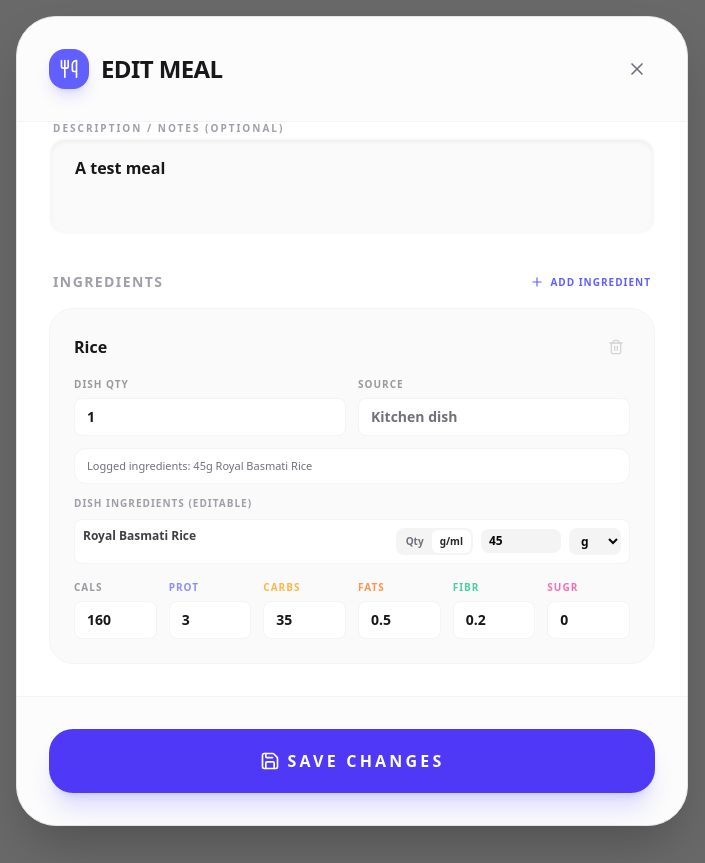
EditMealModal › supports dish ingredient editing and recalculates from kitchen item references
(page scrolled)
Expected: the text "Dish Ingredients (editable)" is shown, [74,496,252,510]
Click the button "Qty". click: (415,541)
box: [398,530,432,553]
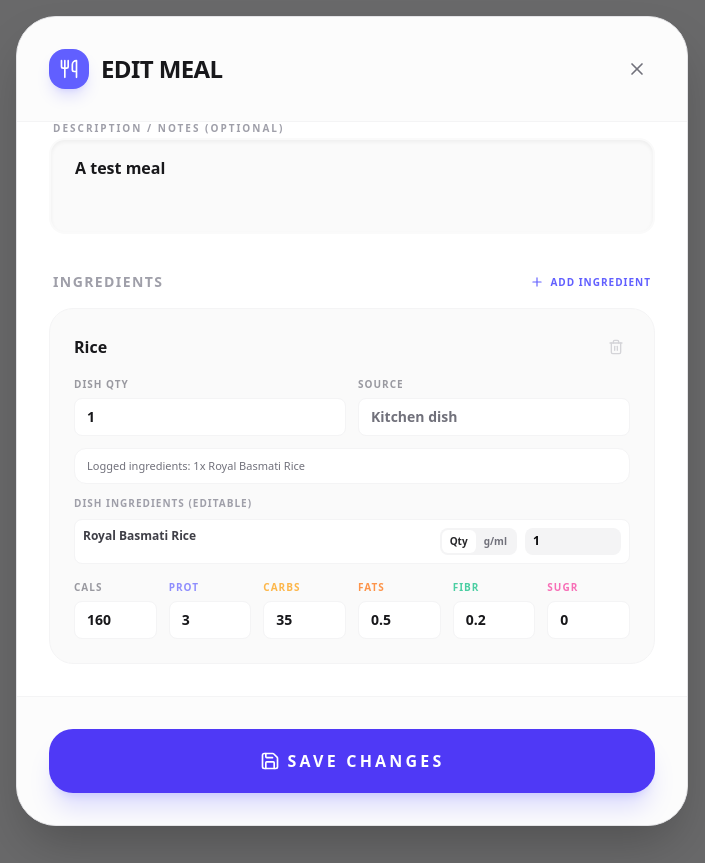
Replace the text in the number field below "Dish Qty" with "2". click: (210,417)
box: [74,398,346,436]
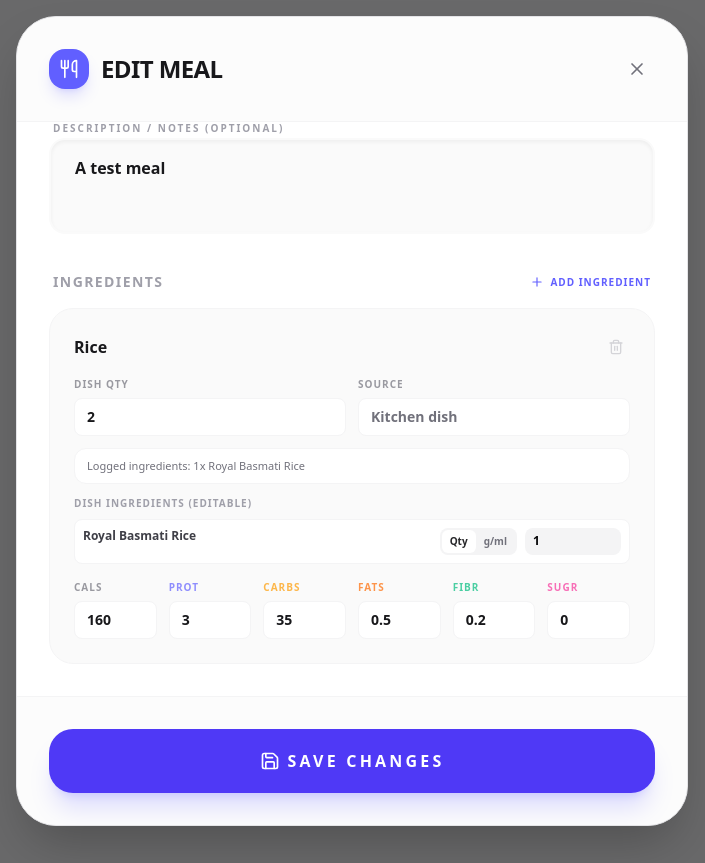
Leave the number field below "Dish Qty", box [74,398,346,436]
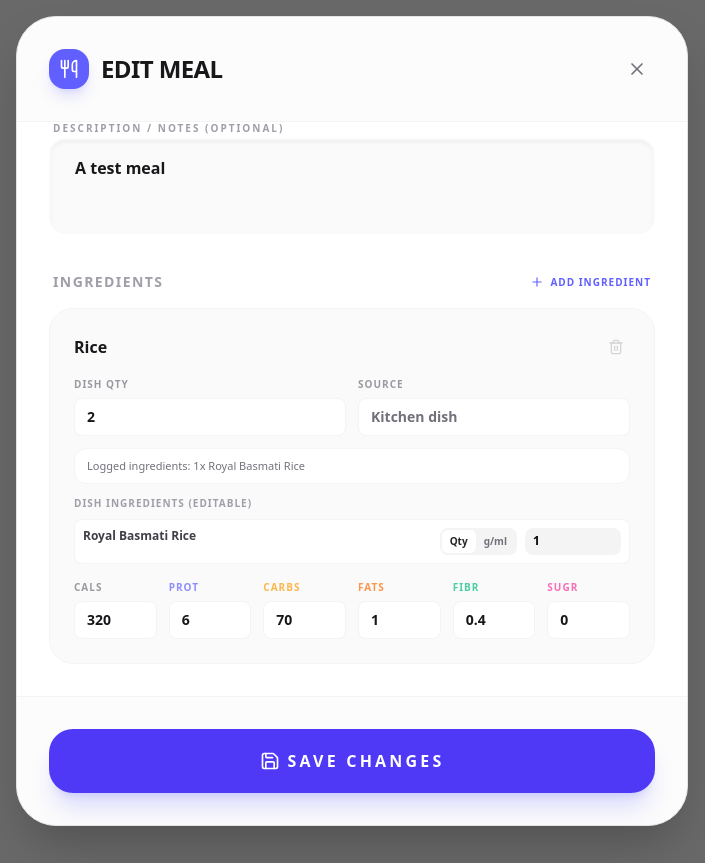
Expected: the number field showing "320" below "Cals" is shown, [74,601,157,639]
